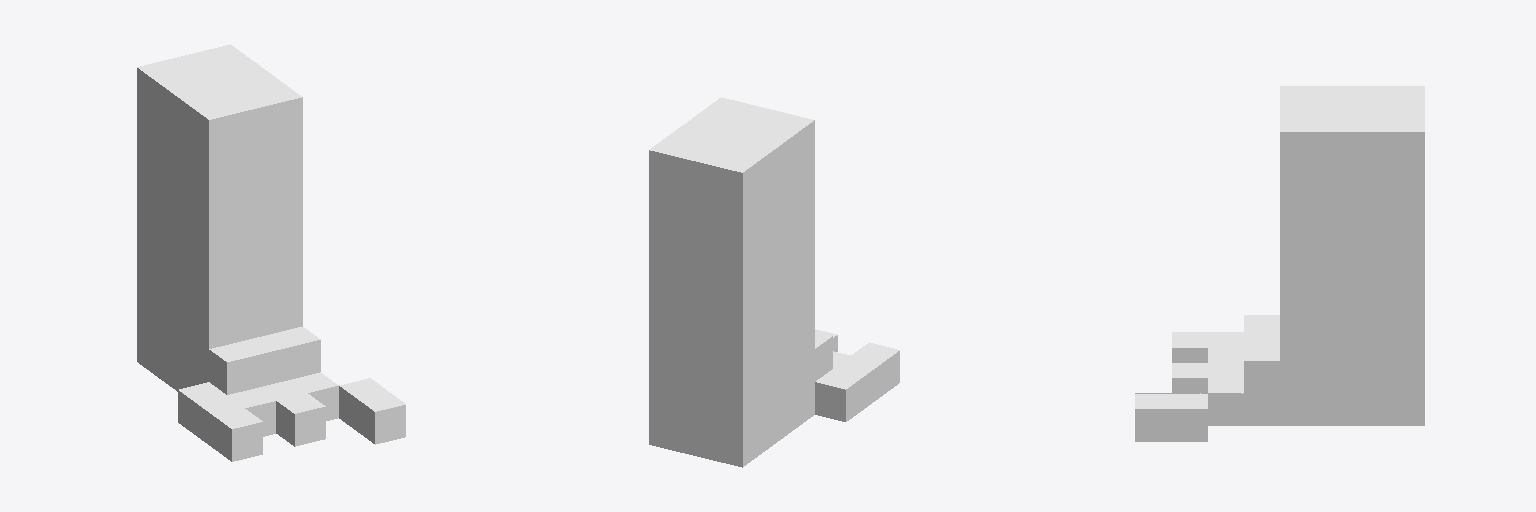
File: Pushkar-5.obj
3 renders of one model, left to right at view 1: azimuth 30°, elevation 25°; view 2: azimuth 150°, elevation 25°; view 3: azimuth 270°, elevation 25°, orthographic.
Parts seen in each view (by area): view 1: object 1; view 2: object 1; view 3: object 1.
Part boxes in pixels (bbox=[...]): object 1: bbox=[137, 44, 405, 461]; object 1: bbox=[649, 97, 899, 467]; object 1: bbox=[1135, 86, 1424, 441].
Size of the model in its own units: 0.5 by 0.9 by 0.8.